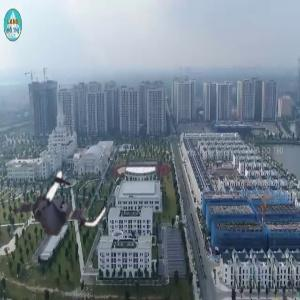drone: (12, 160, 109, 257)
